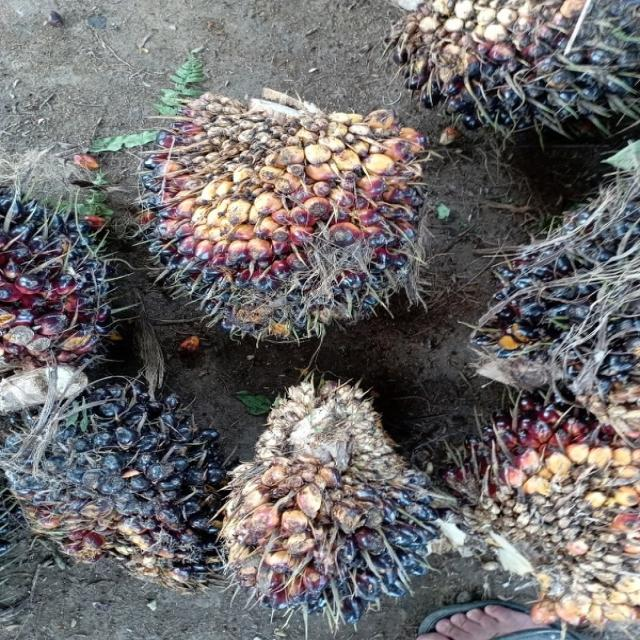fraksi 00: (120, 87, 463, 359), (0, 383, 250, 606), (225, 394, 432, 636), (474, 169, 640, 416), (389, 0, 640, 135)
